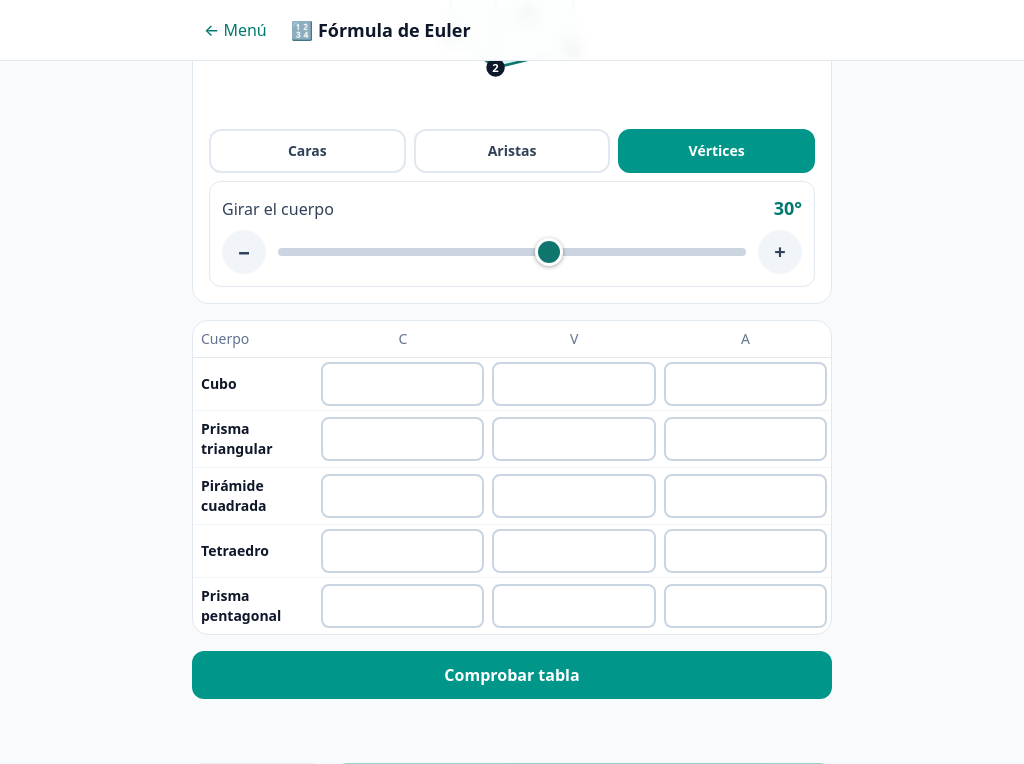
Test case: Fórmula de Euler (módulo) › marca en rojo lo que está mal y no deja avanzar hasta completar la tabla
(page scrolled)
In the field named "Caras de Cubo": (403,384) [321,362,484,406], type "7"
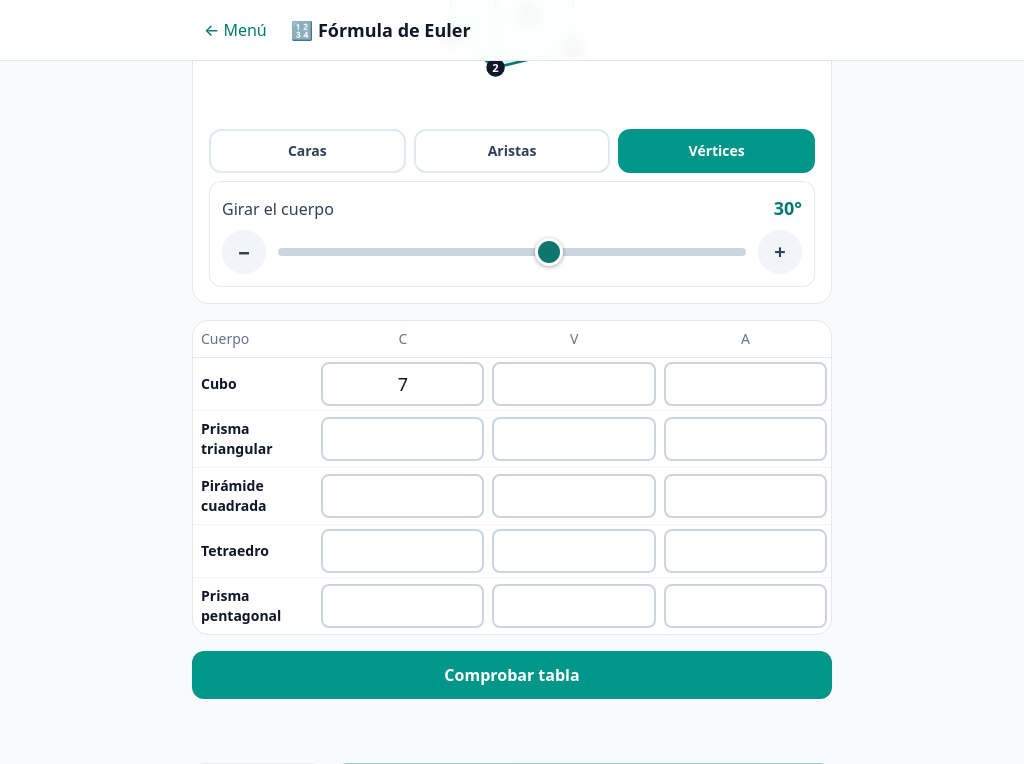
Click the button "Comprobar tabla": (512,675) [192,651,832,699]
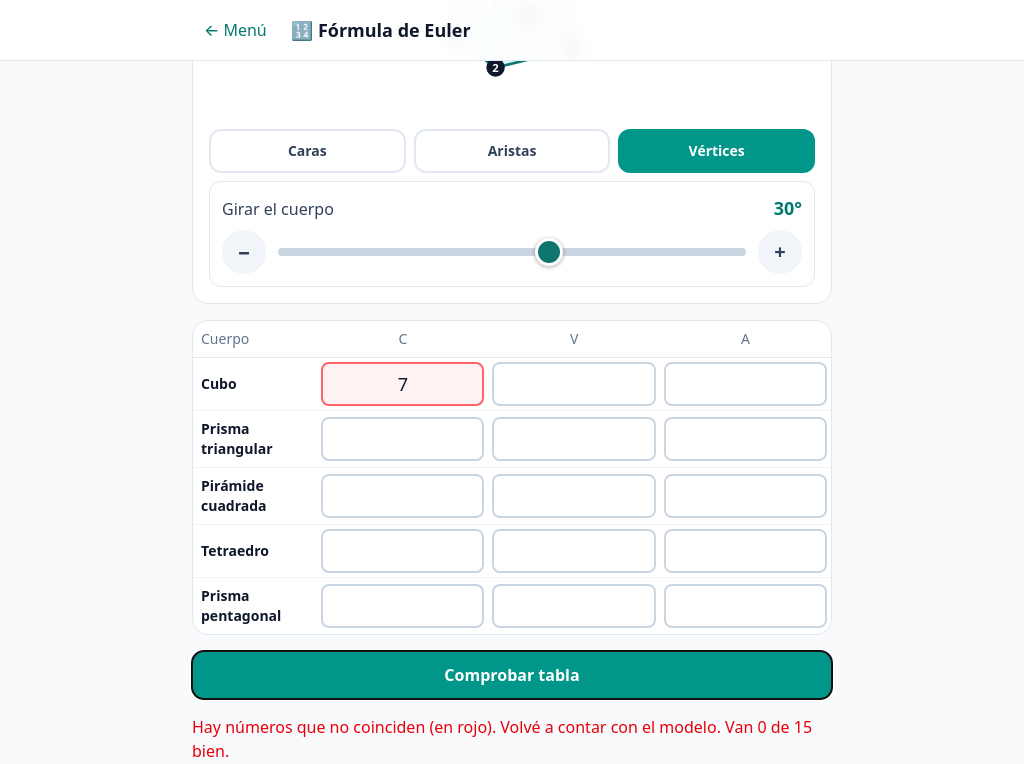
Expected: the text "Hay números que no coinciden" is shown, [192,716,757,738]
Note: corrige y sigue bloqueado: faltan las demás celdas
Replace the text in the field named "Caras de Cubo" with "6": (403,384) [321,362,484,406]
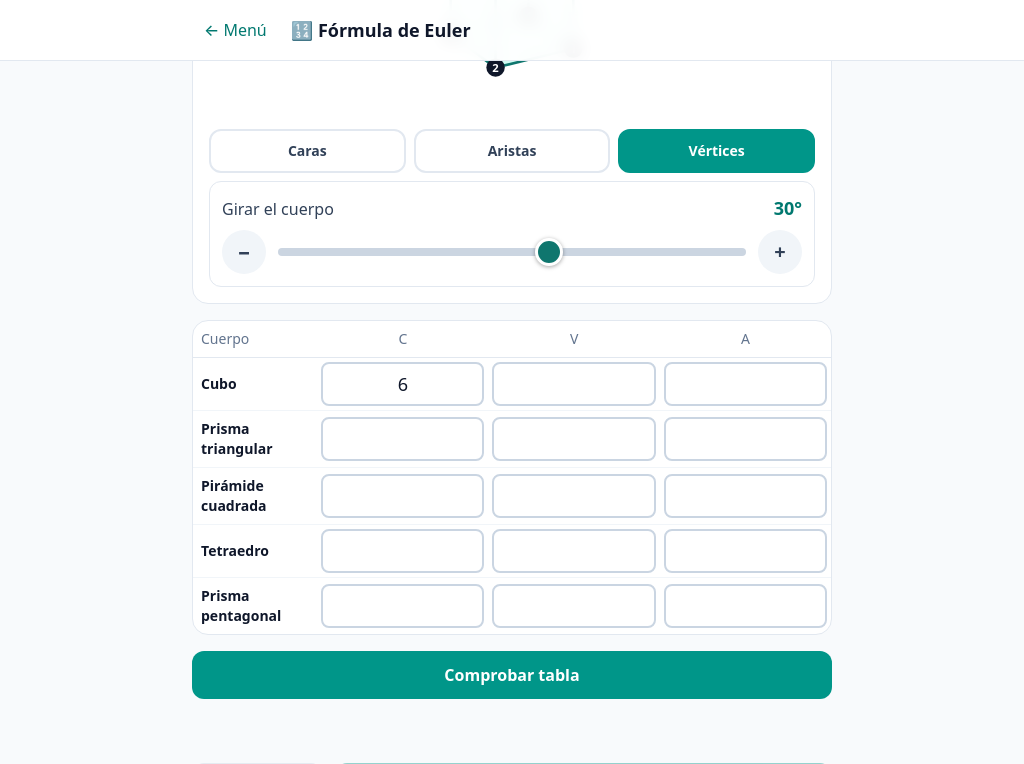
Click the button "Comprobar tabla": (512,675) [192,651,832,699]
(page scrolled)
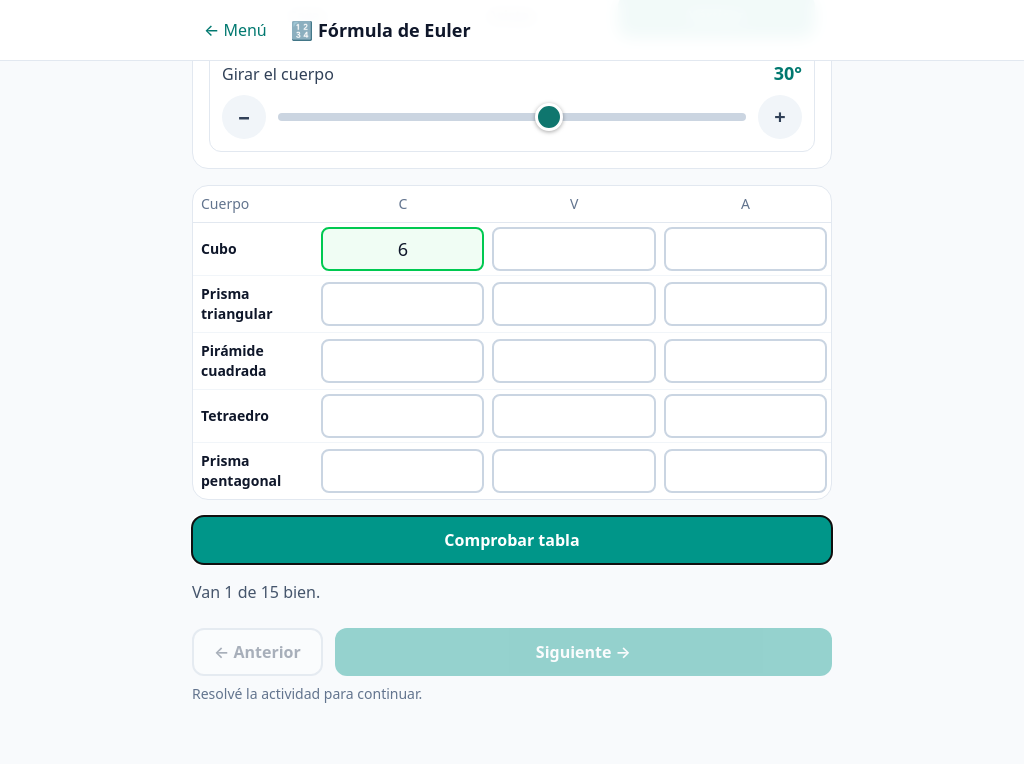
Expected: the button "Siguiente →" is disabled, [335,628,832,676]
Expected: the text "Van 1 de 15 bien." is shown, [192,581,320,603]
